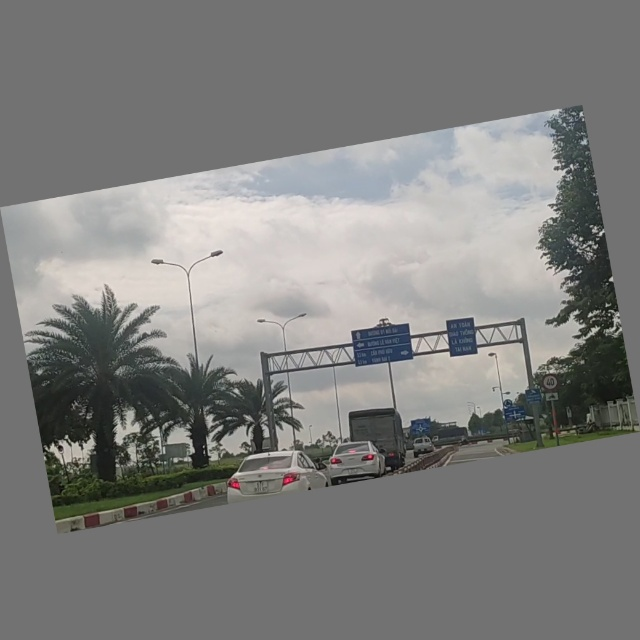P.127*40: (540, 372, 561, 393)
S.505a*Xe may: (543, 390, 561, 404)
